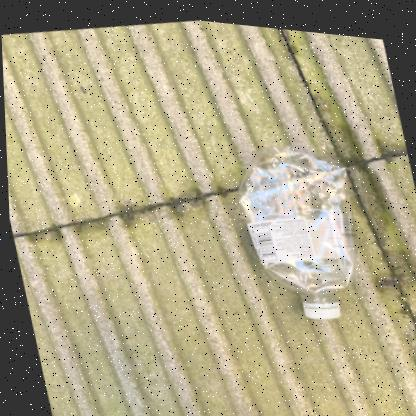Plastic: (236, 138, 354, 312)
